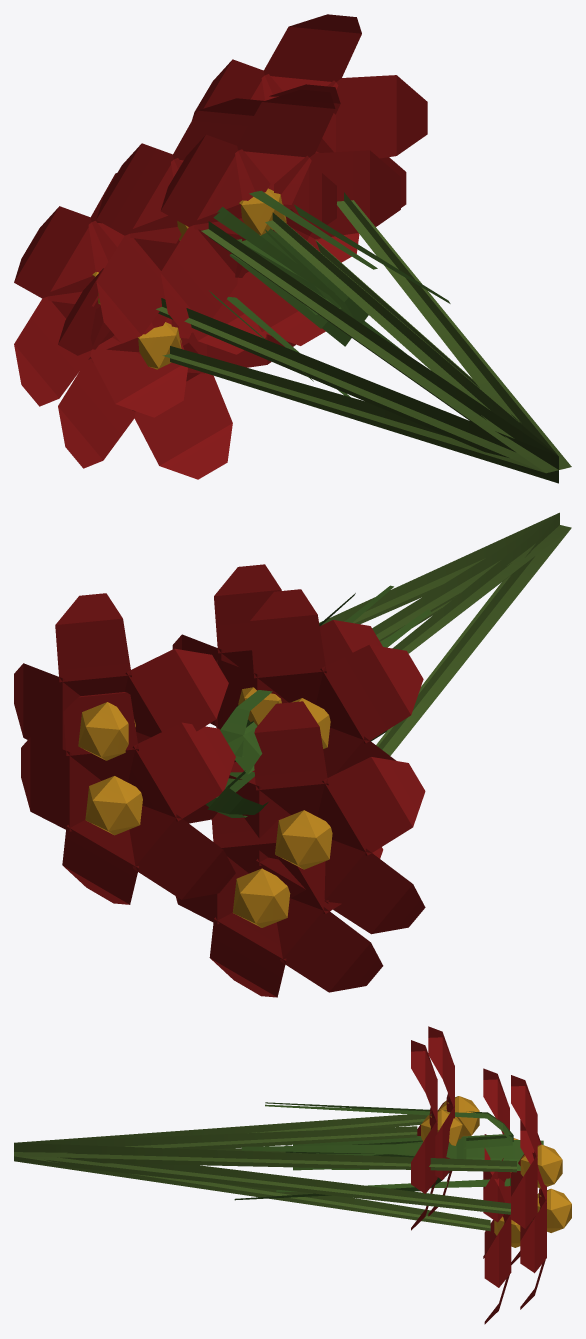
The model's file is flower_red.glb.
The picture shows the model from 3 angles, top to bottom: view 1: azimuth 30°, elevation 25°; view 2: azimuth 150°, elevation 25°; view 3: azimuth 270°, elevation 25°; orthographic projection. The views are drawn at different scales.
Visible parts, largest first — view 1: flower_red; view 2: flower_red; view 3: flower_red.
Boxes of the visible parts, x1,y1,x2,y2 form: flower_red: (14,14,571,483); flower_red: (14,512,571,997); flower_red: (14,1026,571,1324).
Bounding box in the file's own units: 0.1652 × 0.1545 × 0.2727.
